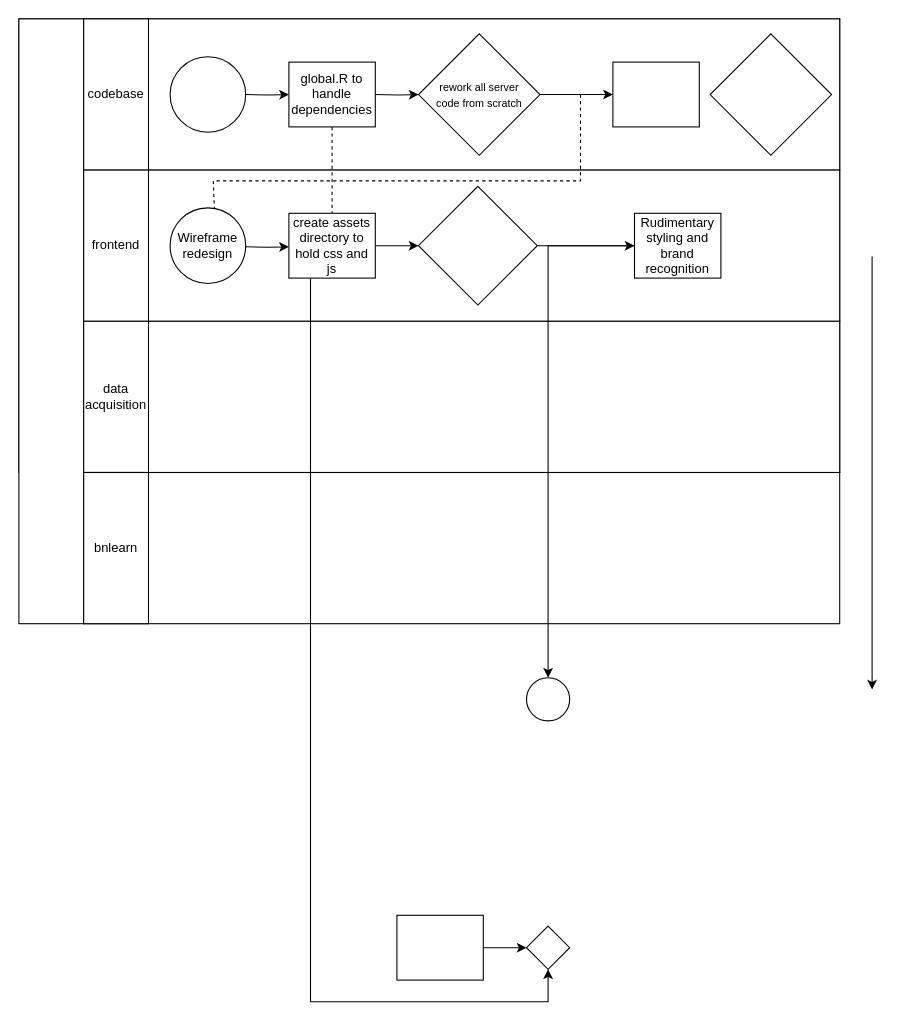
Some shapes in this 900 by 1029 pixel diagram are drawn without their labels. The shapes that lost their labels are listed below. From the top down, each one's box as (x1, y1, x2, y2) in pixels, then its label:
(169, 56, 246, 132): Separate UI and Server
(612, 61, 699, 127): Create modules
(709, 33, 832, 155): fix ID and reactivity issues
(417, 185, 537, 305): enable bootstrap and jQuery
(18, 18, 84, 624): Phase 1
